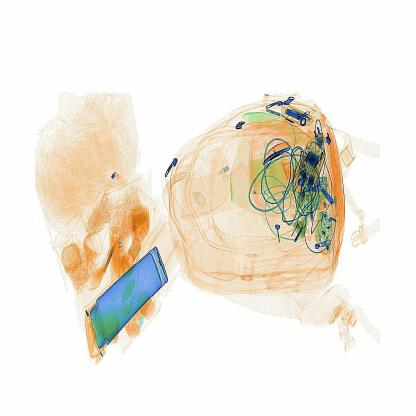pliers: (263, 138, 300, 170)
